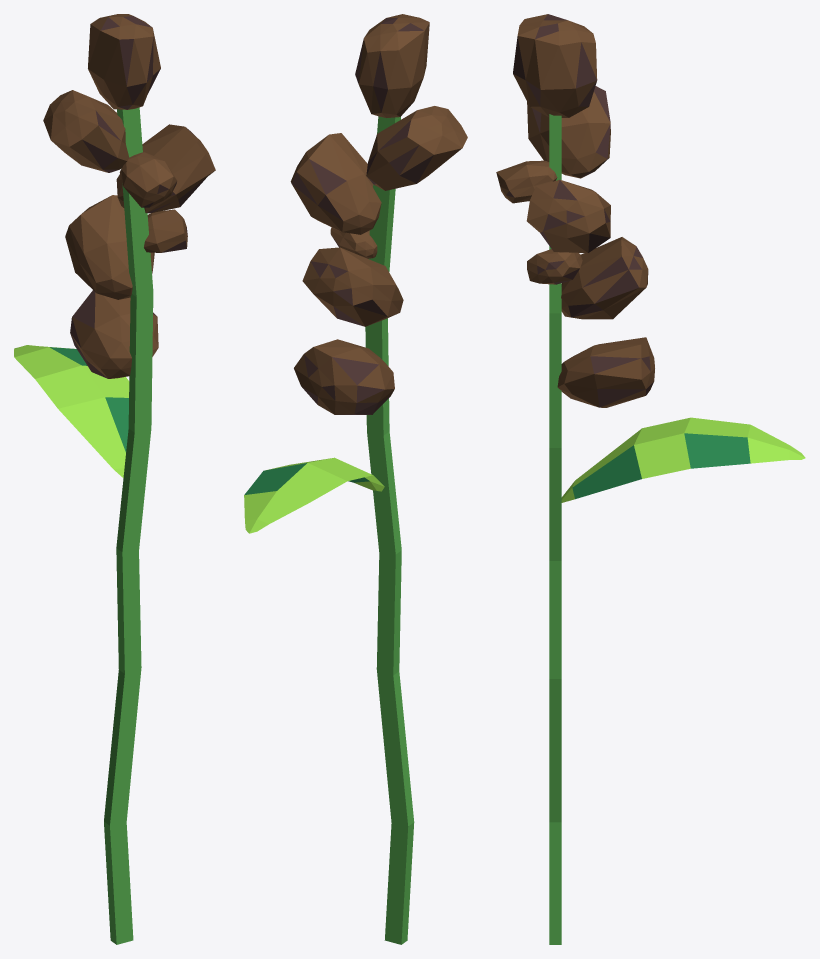
The model's file is SORGO MEDIANO.fbx.
3 renders of one model, left to right at view 1: azimuth 30°, elevation 25°; view 2: azimuth 150°, elevation 25°; view 3: azimuth 270°, elevation 25°, orthographic.
Parts seen in each view (by area): view 1: Icosphere, Cube, Plane.001; view 2: Icosphere, Cube, Plane.001; view 3: Icosphere, Cube, Plane.001.
Boxes of the visible parts, x1,y1,x2,y2 form: Icosphere: [43, 14, 215, 378]; Cube: [104, 107, 153, 944]; Plane.001: [14, 345, 129, 477]; Icosphere: [290, 14, 467, 414]; Cube: [365, 116, 414, 944]; Plane.001: [244, 457, 384, 533]; Icosphere: [496, 14, 654, 407]; Cube: [549, 114, 561, 944]; Plane.001: [561, 417, 805, 502].
Size of the model in its own units: 78.5 by 438 by 134.
